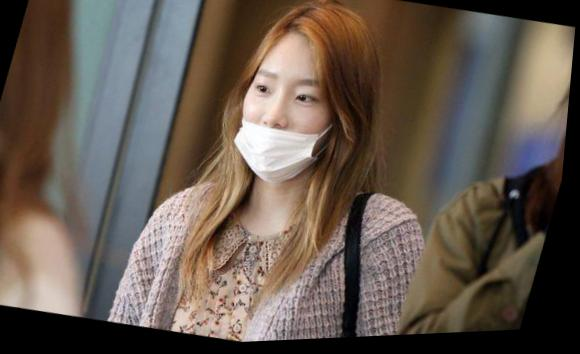WRONG: (221, 62, 351, 188)
